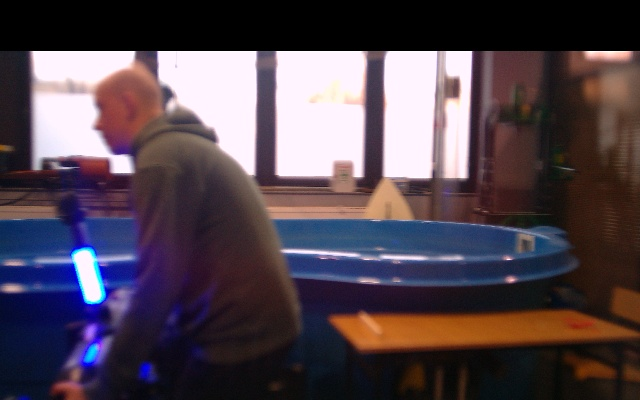blue: (71, 247, 108, 304)
